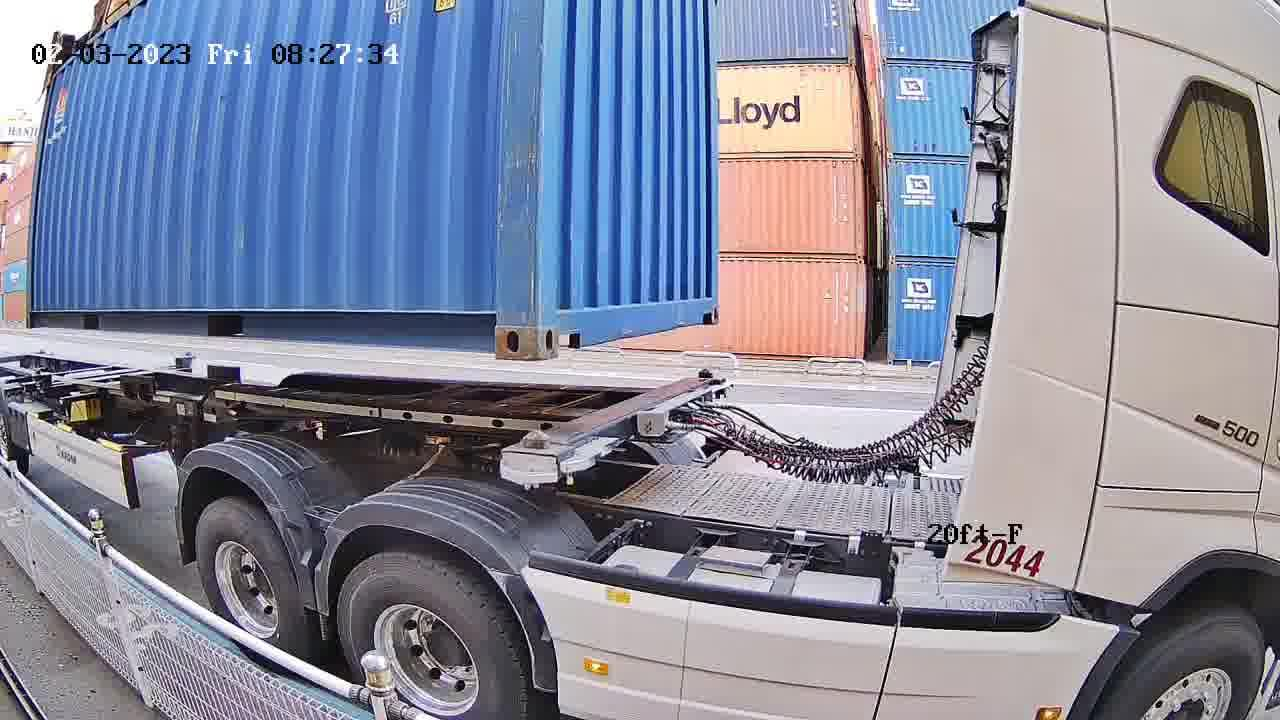Chassis: (501, 375, 724, 480)
Cone: (499, 430, 563, 492), (694, 364, 718, 379)
Hole_L: (538, 287, 587, 358)
Hole_R: (462, 288, 536, 358), (695, 285, 720, 325)
Tire: (337, 558, 523, 717), (197, 501, 301, 672)
